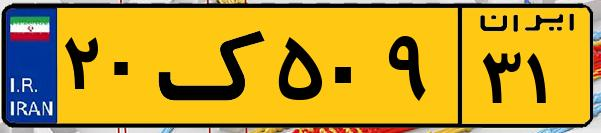0: (330, 28, 385, 110), (110, 28, 158, 98)
1: (525, 38, 570, 115)
2: (57, 26, 110, 100)
3: (475, 38, 525, 113)
5: (270, 28, 330, 110)
9: (385, 28, 445, 110)
ک: (158, 12, 270, 120)
